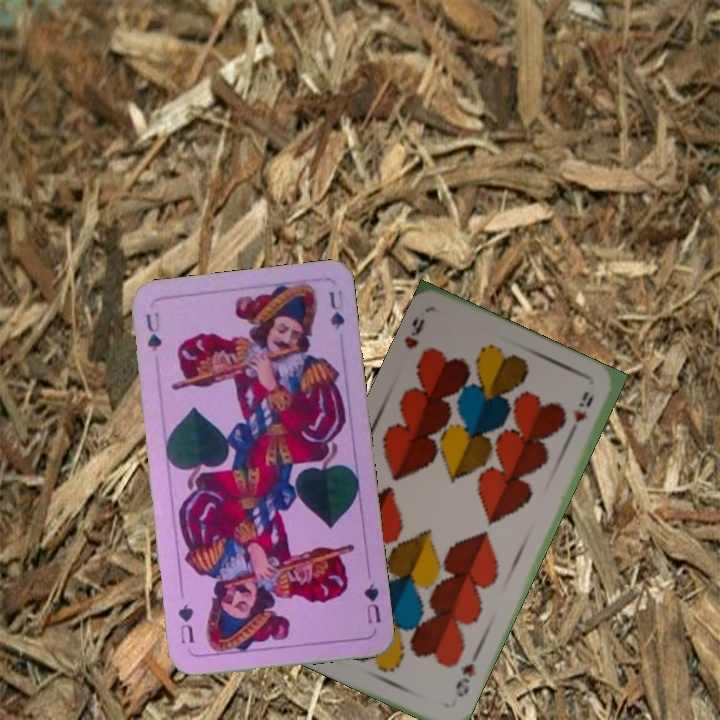GU: (360, 579, 384, 626), (142, 308, 165, 354)
H9: (451, 651, 480, 700), (400, 311, 428, 352)
